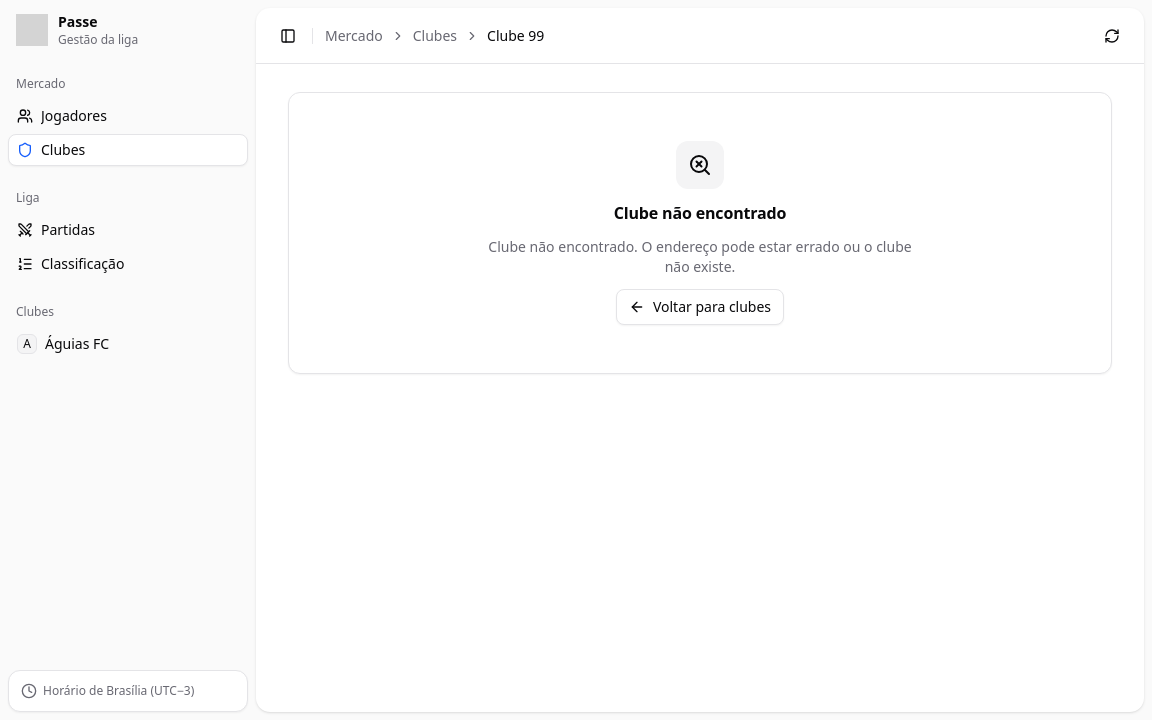
Test case: ClubDetailPage › 404: mostra o message da API e o caminho de volta para a lista
Expected: the message shows "Clube não encontrado", [614,202,786,224]
Expected: the message shows "Clube não encontrado. O endereço pode estar errado ou o clube não existe.", [488,237,912,276]
What coordinates should you click on to do the following:
click the link "Voltar para clubes"
I would click on:
 (700, 307)
Its box is [616,289,784,325].
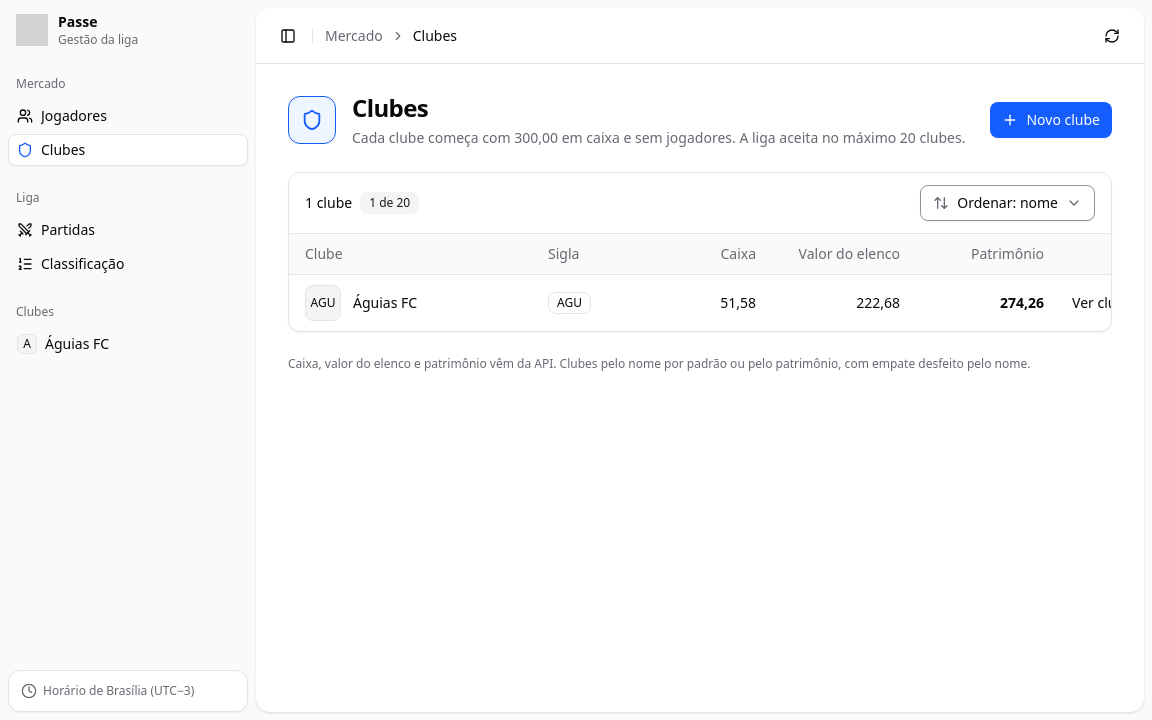
Expected: the 1st heading "Clubes" is shown, [352,91,428,124]
